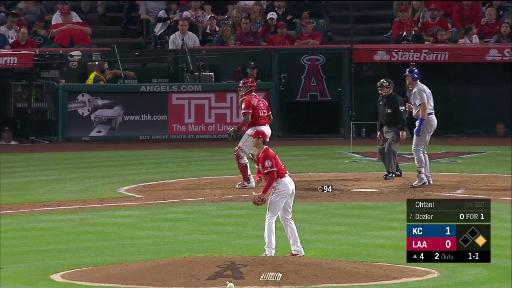pitcher: (248, 128, 307, 258)
